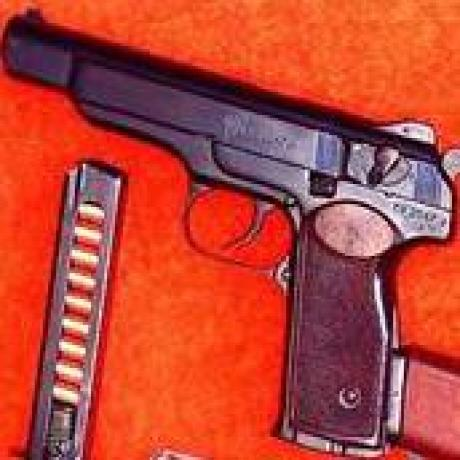weapon: (1, 11, 456, 457)
